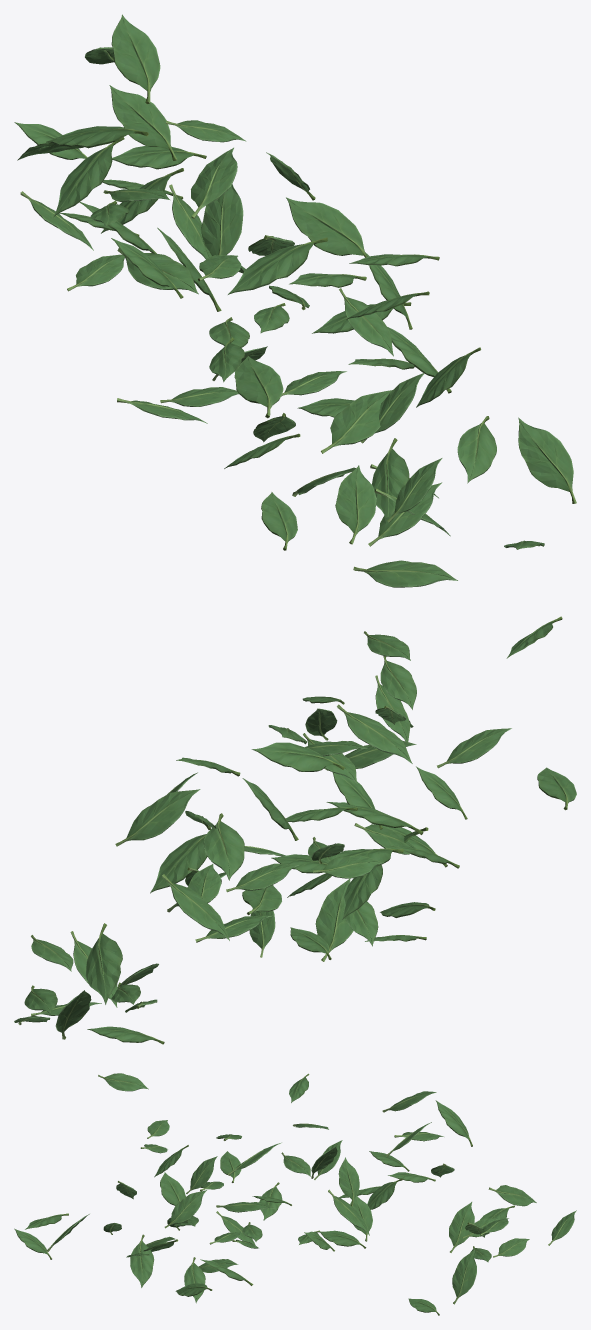
File: holy_canopy9_complete.glb
3 views of the same model, one above another, from view 1: azimuth 30°, elevation 25°; view 2: azimuth 150°, elevation 25°; view 3: azimuth 270°, elevation 25° (orthographic). The views are drawn at different scales.
Visible parts, largest first — view 1: holy_canopy9; view 2: holy_canopy9; view 3: holy_canopy9.
Part boxes in pixels (x1=…): holy_canopy9: x1=14, y1=14, x2=576, y2=587; holy_canopy9: x1=14, y1=616, x2=576, y2=1044; holy_canopy9: x1=14, y1=1073, x2=576, y2=1315.
Size of the model in its own units: 9.11 by 9.82 by 25.9.
Materials: 1 (1 with a texture image).
